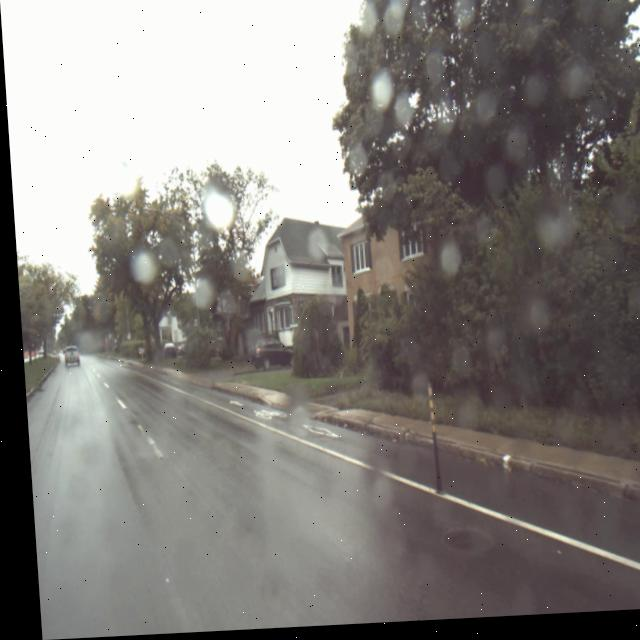car: (246, 336, 287, 374), (59, 345, 77, 368)
